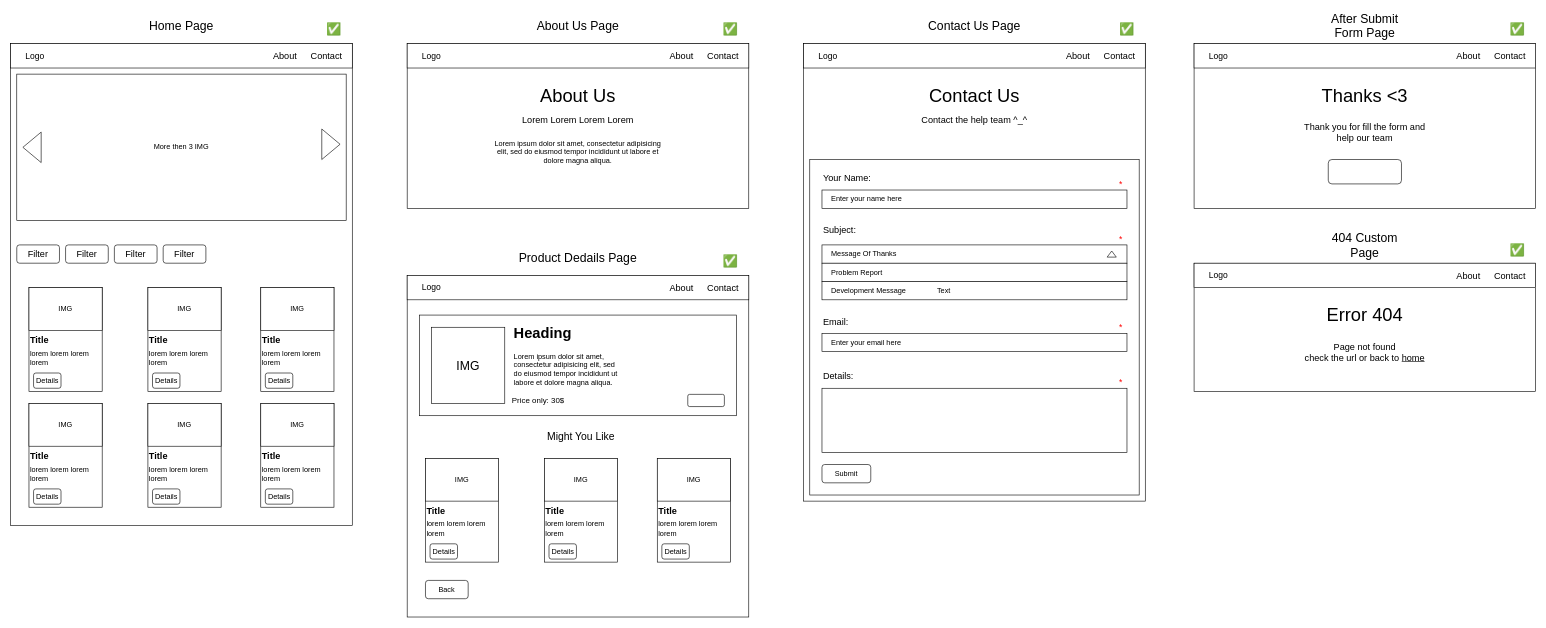
Image size: 1546x628. Some labels were removed from this diagram. Each missing label, with the centre of its shape:
"Back To Home" belongs at (x=1364, y=171).
"Buy" belongs at (x=705, y=400).
"Enter the details here" belongs at (x=974, y=420).
